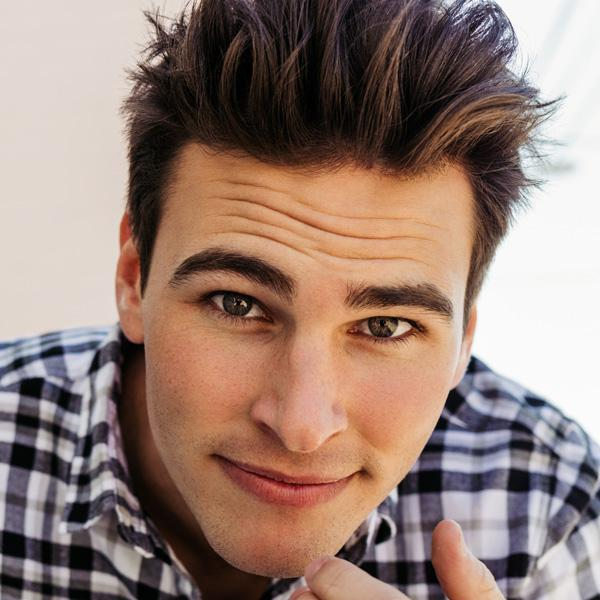Eyes: (188, 280, 284, 339), (339, 305, 428, 358)
